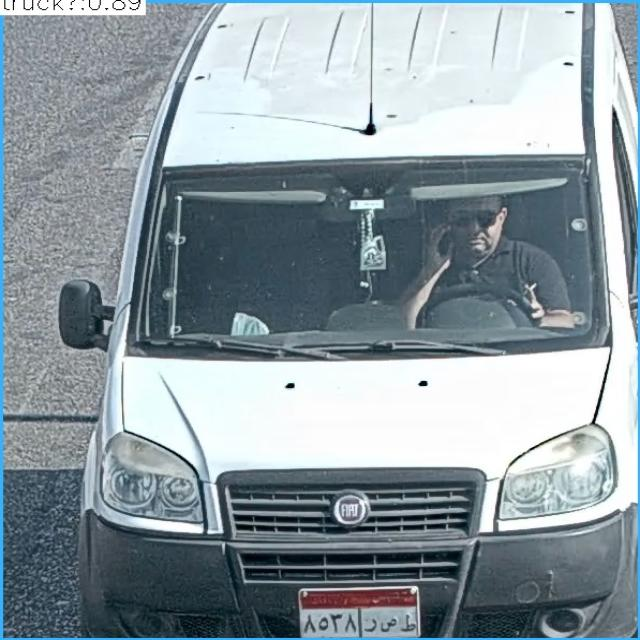windshield: (135, 156, 599, 352)
